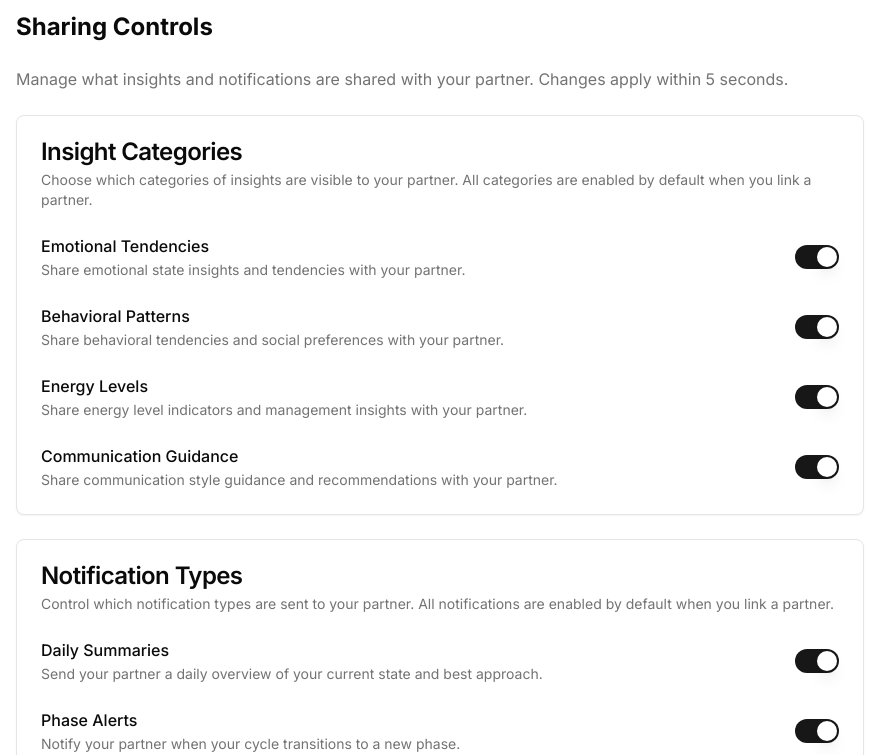
SharingControlsPage › reverts category toggle and shows error on API failure (Requirement 3.2)
Expected: the heading "Insight Categories" is shown, [41,137,242,166]
Click the switch named "toggle emotional tendencies". click: click(817, 257)
box: [795,245,839,269]
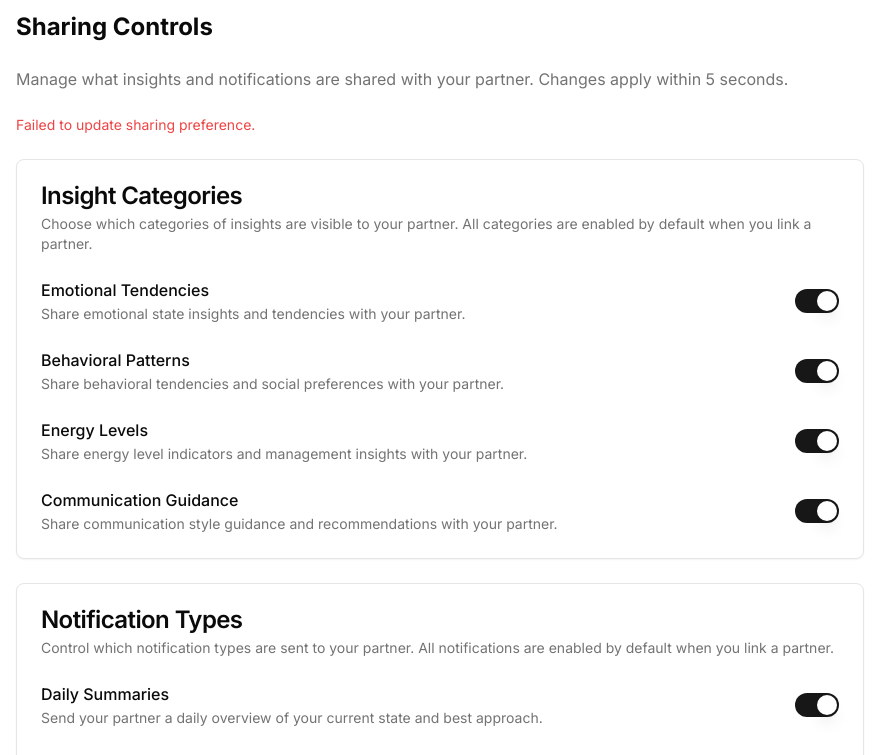
Result: the message with test id "sharing-error" reads "Failed to update sharing preference." at [16,116,255,133]
